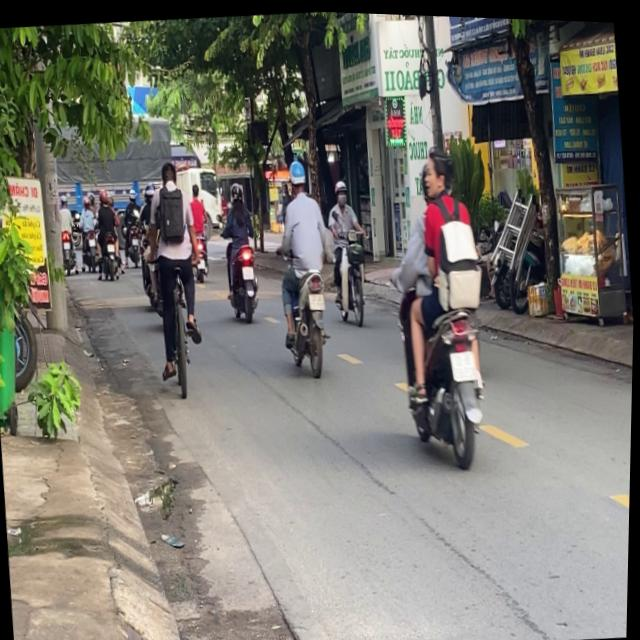helmet: (287, 155, 309, 191), (335, 175, 350, 203), (230, 177, 244, 201)
licenseplate: (379, 139, 504, 468), (267, 152, 341, 376), (323, 172, 376, 324), (216, 175, 266, 320)
motorcyclist: (418, 148, 449, 199)
nohelmet: (450, 345, 478, 377), (308, 288, 325, 306), (242, 262, 255, 276)
